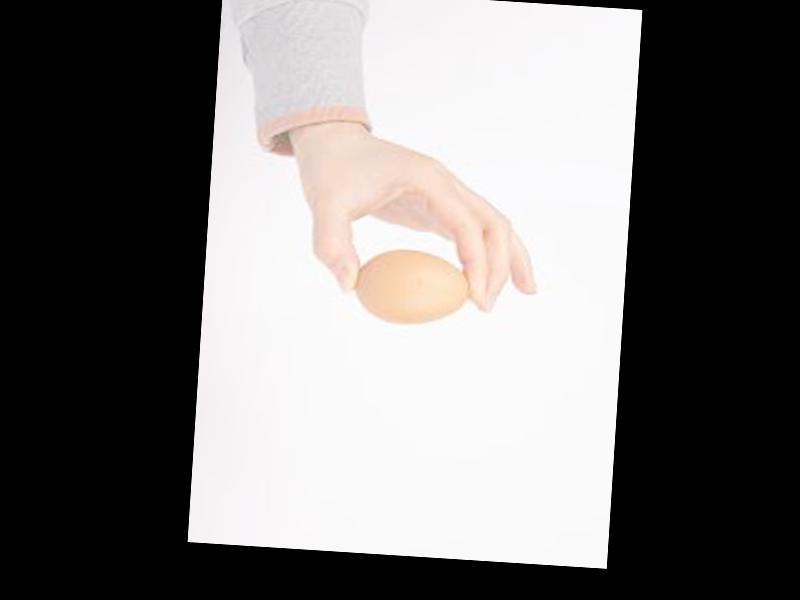Eggs: (356, 249, 473, 328)
